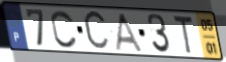3: (146, 13, 172, 55)
7: (25, 7, 47, 49)
A: (113, 11, 145, 53)
C: (82, 9, 111, 54), (50, 9, 79, 50)
T: (172, 13, 195, 56)
